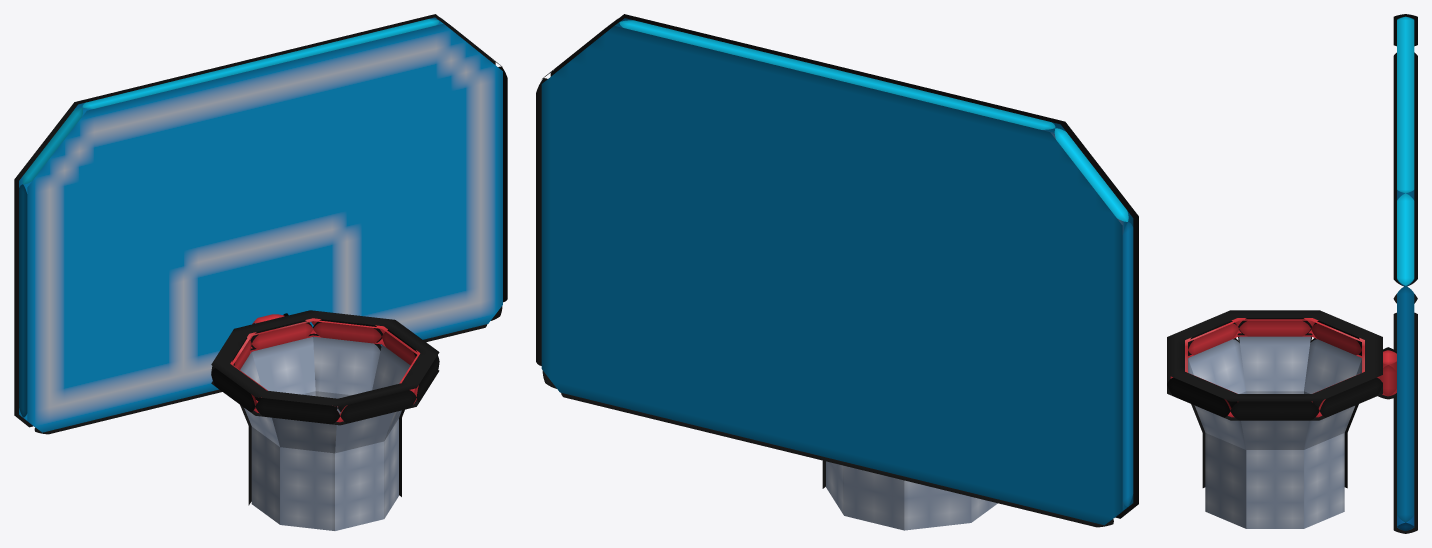
Rendered from Tablero_Basketball_v1.fbx.
3 renders of one model, left to right at view 1: azimuth 30°, elevation 25°; view 2: azimuth 150°, elevation 25°; view 3: azimuth 270°, elevation 25°, orthographic. The views are drawn at different scales.
Parts seen in each view (by area): view 1: Tablero, Red, Canasta_outline, Tablero_outline, Canasta, Red_outline; view 2: Tablero, Tablero_outline, Red; view 3: Red, Canasta_outline, Tablero, Tablero_outline, Canasta, Red_outline, Soporte.
Boxes of the visible parts, x1,y1,x2,y2 form: Tablero: [19, 17, 502, 432]; Red: [240, 336, 410, 530]; Canasta_outline: [211, 310, 439, 425]; Tablero_outline: [14, 14, 507, 434]; Canasta: [230, 318, 420, 422]; Red_outline: [240, 333, 404, 505]; Tablero: [541, 18, 1133, 525]; Tablero_outline: [536, 14, 1138, 527]; Red: [826, 461, 997, 530]; Red: [1188, 336, 1361, 528]; Canasta_outline: [1167, 310, 1382, 420]; Tablero: [1397, 16, 1414, 530]; Tablero_outline: [1393, 14, 1417, 533]; Canasta: [1170, 318, 1379, 417]; Red_outline: [1188, 333, 1361, 488]; Soporte: [1379, 350, 1396, 396].
Bounding box in the file's own units: 202 × 158 × 90.
2 materials, 2 textured.
